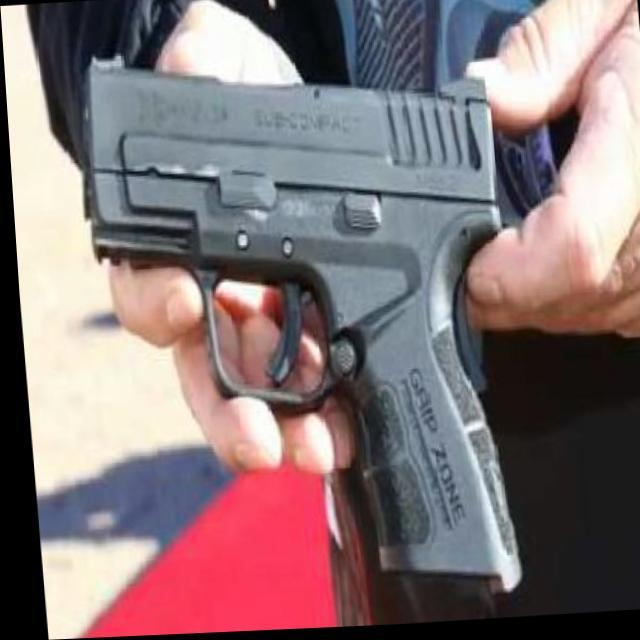weapon: (48, 22, 541, 629)
